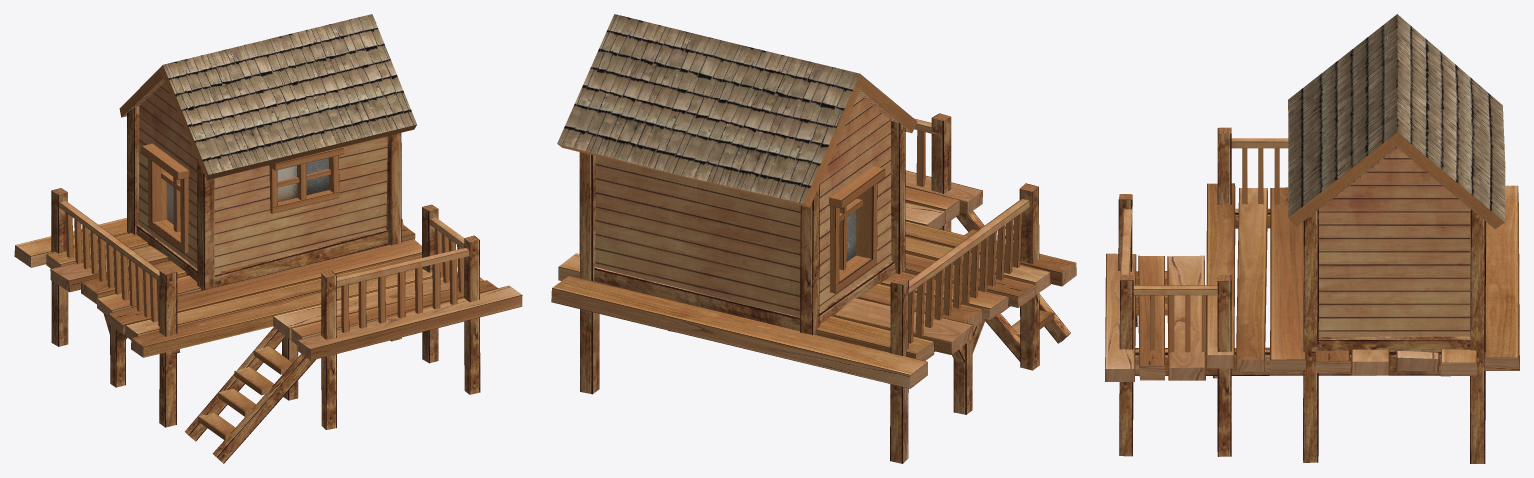
Rendered from wooden_home.glb.
3 views of the same model, side by side, from view 1: azimuth 30°, elevation 25°; view 2: azimuth 150°, elevation 25°; view 3: azimuth 270°, elevation 25° (orthographic). The views are drawn at different scales.
Visible parts, largest first — view 1: Object_2; view 2: Object_2; view 3: Object_2.
Boxes of the visible parts, left/top/right/bottom form: Object_2: left=14, top=14, right=522, bottom=463; Object_2: left=551, top=14, right=1076, bottom=463; Object_2: left=1105, top=14, right=1519, bottom=463.
Bounding box in the file's own units: 4.89 × 4.18 × 4.55.
1 material, 1 textured.
